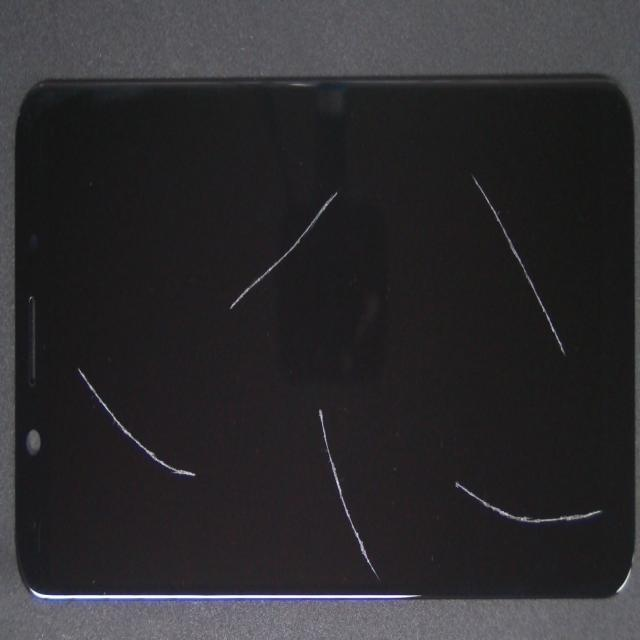scratch: (299, 283, 640, 640), (205, 317, 566, 640), (239, 15, 461, 313), (146, 246, 292, 640), (339, 287, 640, 432)
